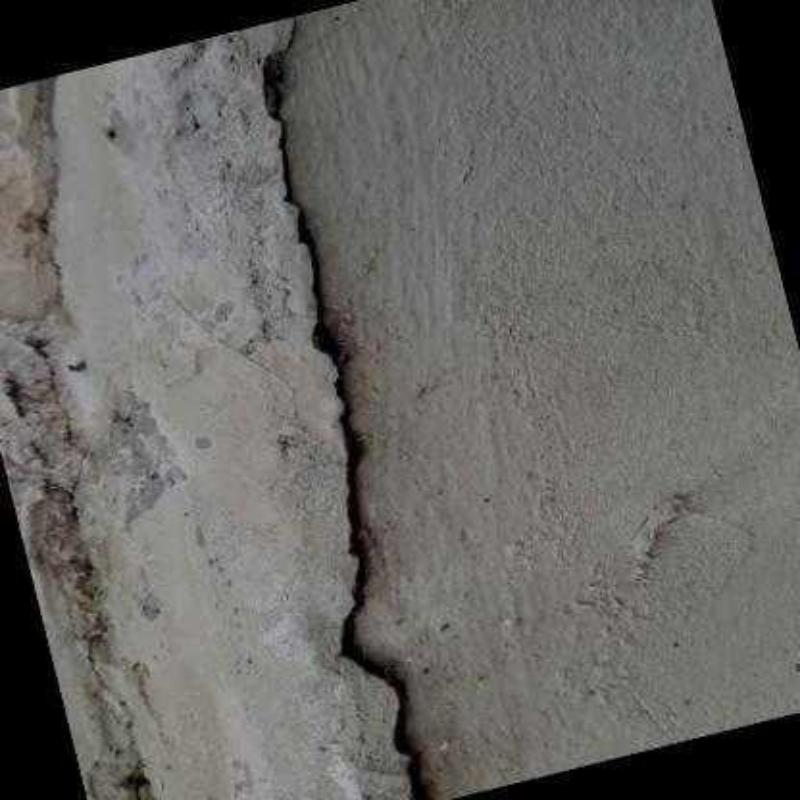pothole: (264, 15, 432, 799)
